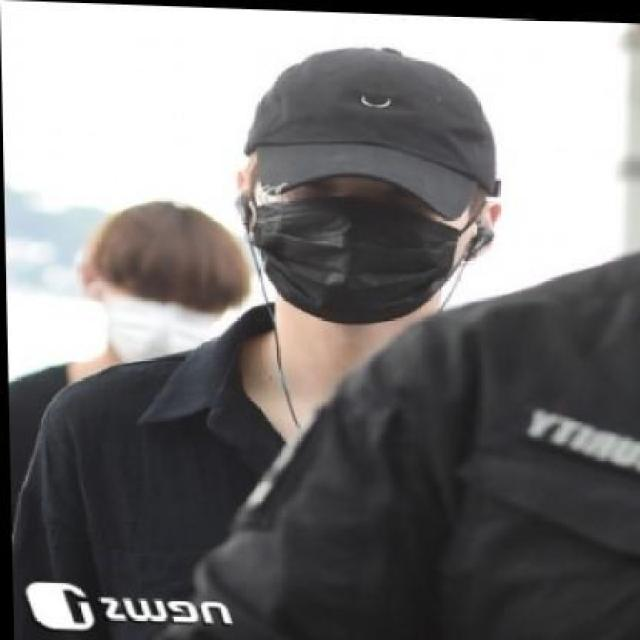hat: (239, 38, 503, 220)
